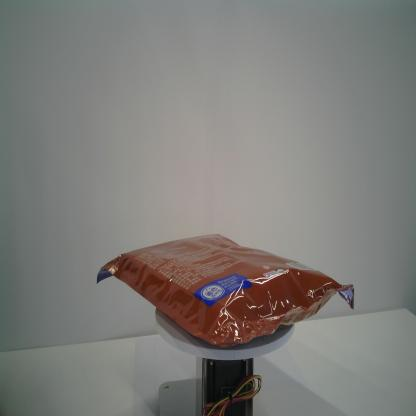Dried Food: (96, 233, 355, 350)
